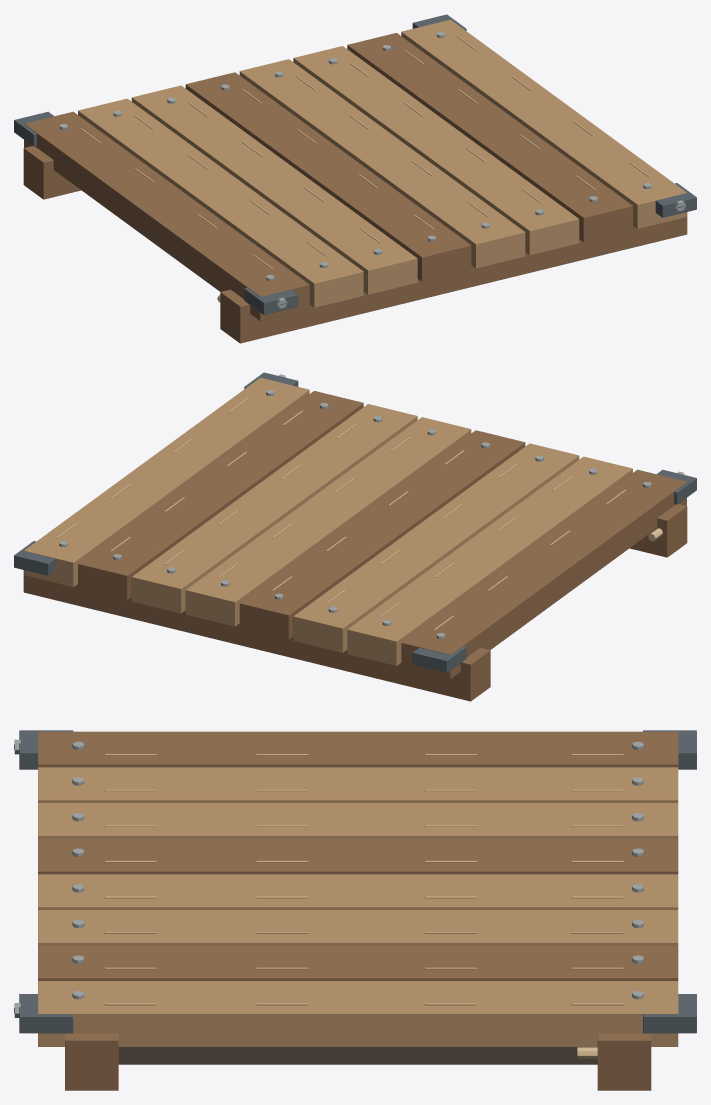
The model's file is 01_Wooden_Floor_Foundation.fbx.
3 renders of one model, top to bottom at view 1: azimuth 30°, elevation 25°; view 2: azimuth 150°, elevation 25°; view 3: azimuth 270°, elevation 25°, orthographic. The views are drawn at different scales.
Parts seen in each view (by area): view 1: 01_Wooden_Floor_Foundation; view 2: 01_Wooden_Floor_Foundation; view 3: 01_Wooden_Floor_Foundation.
Boxes of the visible parts, x1,y1,x2,y2 form: 01_Wooden_Floor_Foundation: [14, 14, 696, 343]; 01_Wooden_Floor_Foundation: [14, 372, 696, 701]; 01_Wooden_Floor_Foundation: [14, 730, 696, 1090].
Size of the model in its own units: 4.15 by 0.4865 by 4.05.
